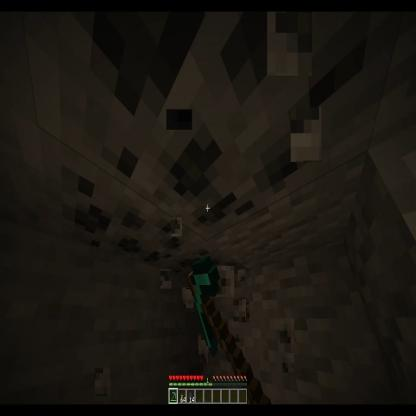coal ore: (29, 0, 415, 235), (35, 130, 192, 266)
